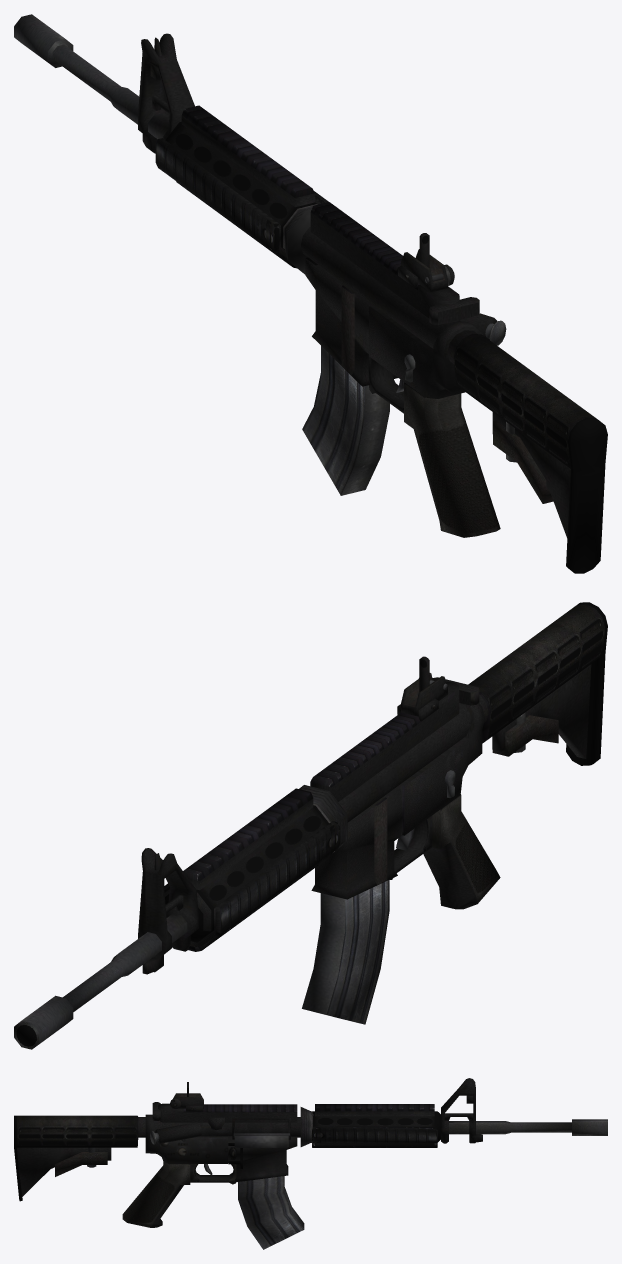
File: guntest.obj
3 renders of one model, top to bottom at view 1: azimuth 30°, elevation 25°; view 2: azimuth 150°, elevation 25°; view 3: azimuth 270°, elevation 25°, orthographic. The views are drawn at different scales.
Parts seen in each view (by area): view 1: Cylinder; view 2: Cylinder; view 3: Cylinder.
Boxes of the visible parts, left/top/right/bottom form: Cylinder: left=14, top=14, right=607, bottom=573; Cylinder: left=14, top=602, right=607, bottom=1049; Cylinder: left=14, top=1078, right=607, bottom=1249.
Bounding box in the file's own units: 0.7244 × 2.59 × 8.45.
Materials: 1 (1 with a texture image).
